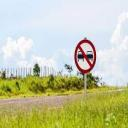NoUltrapassar: (74, 37, 96, 75)
